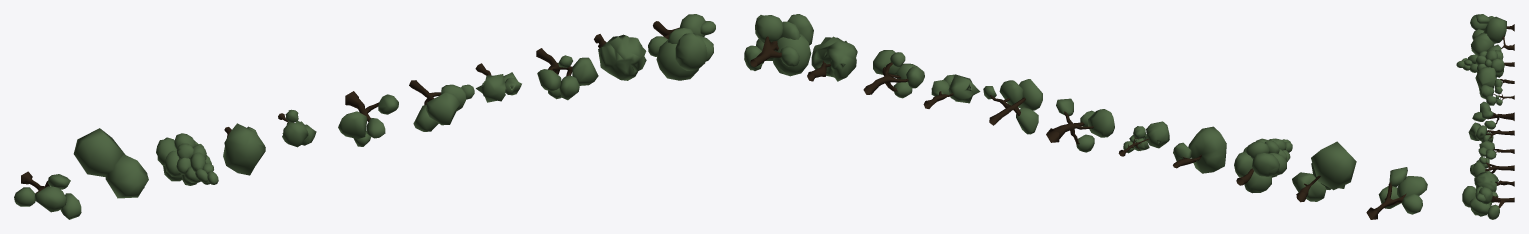
Rendered from LOW_POLY_TREES.obj.
The picture shows the model from 3 angles, left to right: view 1: azimuth 30°, elevation 25°; view 2: azimuth 150°, elevation 25°; view 3: azimuth 270°, elevation 25°; orthographic projection. The views are drawn at different scales.
Visible parts, largest first — view 1: Tree03, Tree01, Tree02, Tree09, Tree10, Tree08, Tree11, Tree04, Tree05, Tree06, Tree07; view 2: Tree03, Tree01, Tree02, Tree10, Tree09, Tree05, Tree11, Tree08, Tree04, Tree06, Tree07; view 3: Tree03, Tree01, Tree02, Tree11, Tree05, Tree10, Tree04, Tree09, Tree07, Tree08, Tree06.
Part boxes in pixels (box(x1,y1,x2,y2)): Tree03: box(648, 14, 715, 80); Tree01: box(73, 128, 148, 198); Tree02: box(156, 133, 218, 185); Tree09: box(536, 48, 598, 100); Tree10: box(409, 80, 474, 131); Tree08: box(14, 171, 81, 219); Tree11: box(338, 91, 398, 146); Tree04: box(594, 34, 646, 80); Tree05: box(223, 123, 265, 175); Tree06: box(475, 63, 521, 102); Tree07: box(278, 109, 316, 147); Tree03: box(744, 14, 813, 76); Tree01: box(1292, 141, 1356, 202); Tree02: box(1234, 138, 1292, 193); Tree10: box(983, 79, 1042, 134); Tree09: box(863, 50, 924, 98); Tree05: box(1173, 126, 1226, 173); Tree11: box(1046, 98, 1114, 152); Tree08: box(1366, 167, 1427, 219); Tree04: box(807, 36, 857, 81); Tree06: box(923, 74, 980, 108); Tree07: box(1118, 121, 1169, 156); Tree03: box(1462, 186, 1514, 219); Tree01: box(1471, 16, 1514, 55); Tree02: box(1456, 49, 1514, 77); Tree11: box(1472, 101, 1514, 129); Tree05: box(1475, 67, 1514, 90); Tree10: box(1468, 122, 1514, 142); Tree04: box(1474, 171, 1514, 191); Tree09: box(1470, 157, 1514, 177); Tree07: box(1479, 85, 1514, 105); Tree08: box(1470, 14, 1514, 39); Tree06: box(1478, 140, 1514, 159).
Bounding box in the file's own units: 444 × 46.71 × 58.08.
